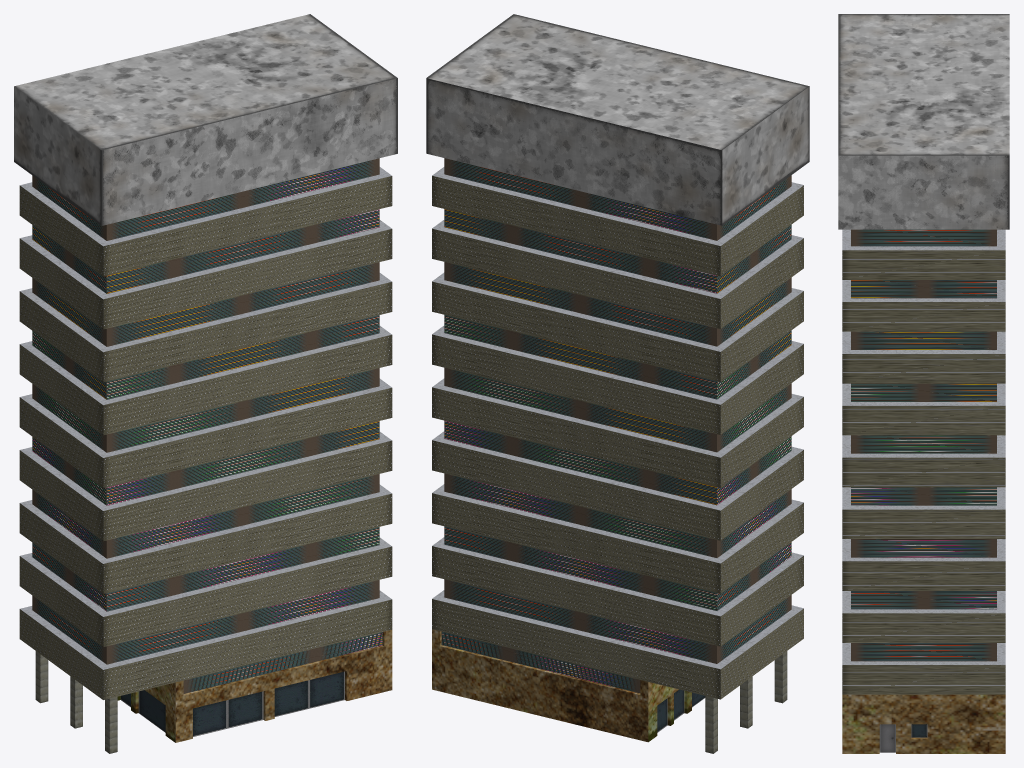
File: building_polar.fbx
The picture shows the model from 3 angles, left to right: view 1: azimuth 30°, elevation 25°; view 2: azimuth 150°, elevation 25°; view 3: azimuth 270°, elevation 25°; orthographic projection. The views are drawn at different scales.
Parts seen in each view (by area): view 1: Floor, Windows, Roof, Ground Floor, Pillar; view 2: Floor, Windows, Roof, Ground Floor, Pillar; view 3: Floor, Roof, Windows, Ground Floor.
Boxes of the visible parts, bbox=[...] form: Floor: bbox=[19, 167, 392, 646]; Windows: bbox=[32, 158, 379, 664]; Roof: bbox=[14, 14, 397, 225]; Ground Floor: bbox=[19, 590, 392, 742]; Pillar: bbox=[35, 651, 117, 753]; Floor: bbox=[432, 167, 803, 646]; Windows: bbox=[444, 158, 791, 663]; Roof: bbox=[426, 14, 809, 225]; Ground Floor: bbox=[432, 590, 803, 742]; Pillar: bbox=[705, 651, 787, 753]; Floor: bbox=[842, 229, 1005, 642]; Roof: bbox=[838, 14, 1009, 229]; Windows: bbox=[851, 229, 996, 661]; Ground Floor: bbox=[842, 643, 1005, 753].
Size of the model in its own units: 2050 by 4050 by 1050.
